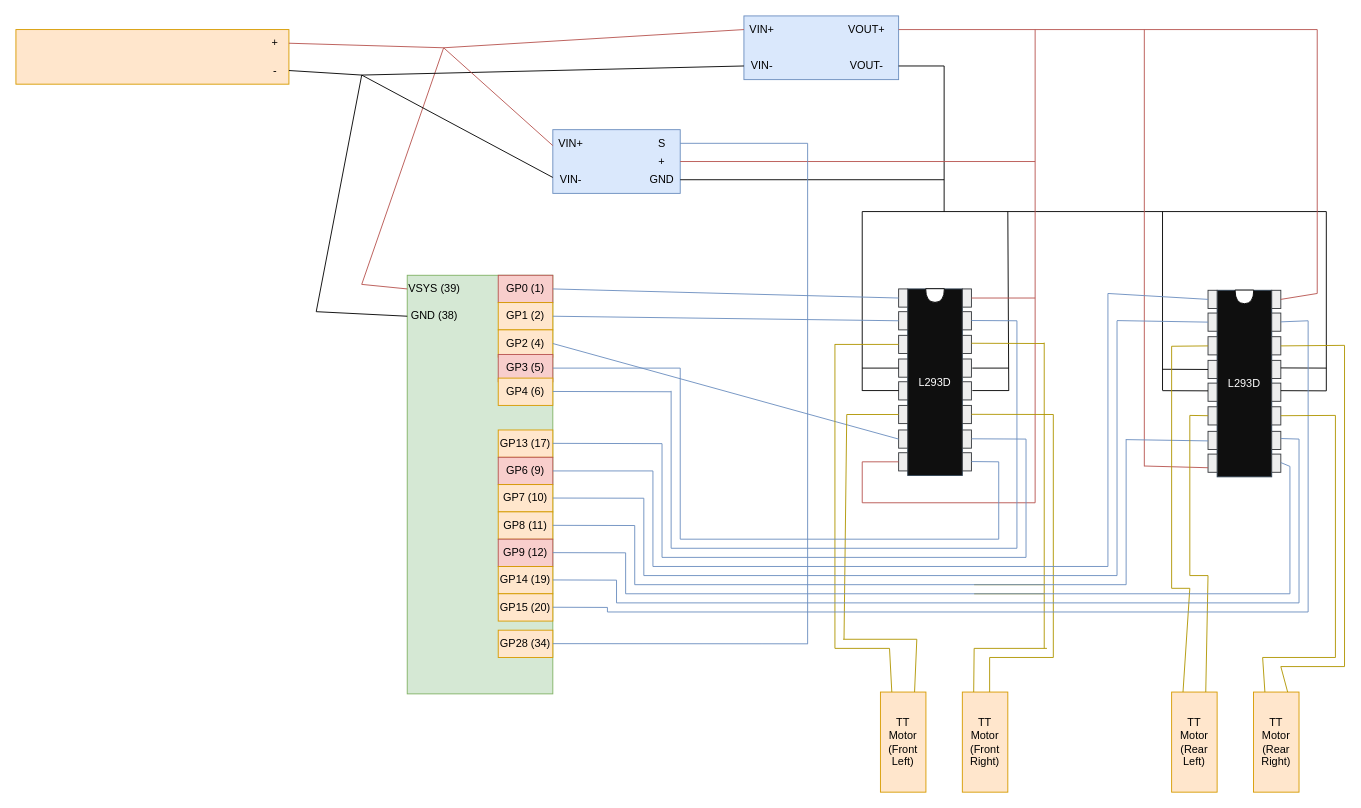
Some shapes in this 1361 by 808 pixel diagram are drawn without their labels. Here are the shapes that lost their labels. From the top down, the box of each, then its label:
(15, 29, 289, 84): 3.7V LiPo Battery
(743, 15, 899, 80): MT3608 Converter, set to 5V
(552, 129, 680, 193): Voltage Meter
(406, 274, 553, 694): Raspberry Pi Pico W
